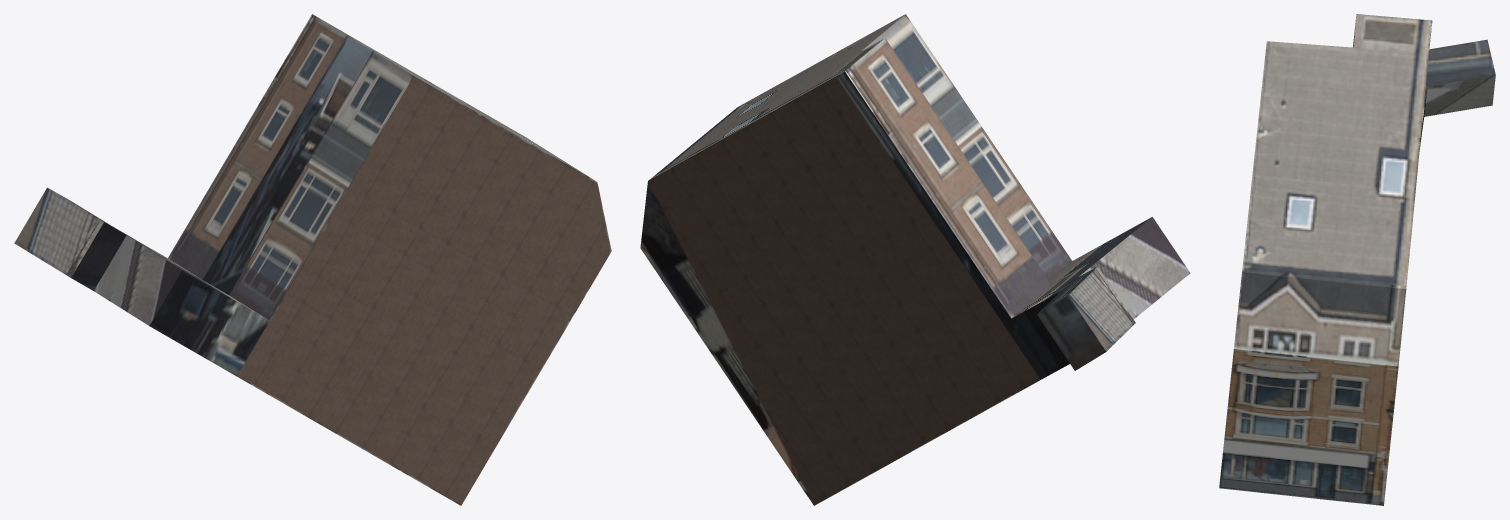
3 views of the same model, side by side, from view 1: azimuth 30°, elevation 25°; view 2: azimuth 150°, elevation 25°; view 3: azimuth 270°, elevation 25° (orthographic). The views are drawn at different scales.
Parts seen in each view (by area): view 1: BAG_0599100000700986 (×5); view 2: BAG_0599100000700986 (×5); view 3: BAG_0599100000700986 (×3).
Boxes of the visible parts, x1,y1,x2,y2 form: BAG_0599100000700986 (×5): [14, 14, 611, 505]; BAG_0599100000700986 (×5): [640, 14, 1190, 505]; BAG_0599100000700986 (×3): [1219, 14, 1495, 505].
Bounding box in the file's own units: 21.54 × 19.05 × 10.29.
1 material, 1 textured.
